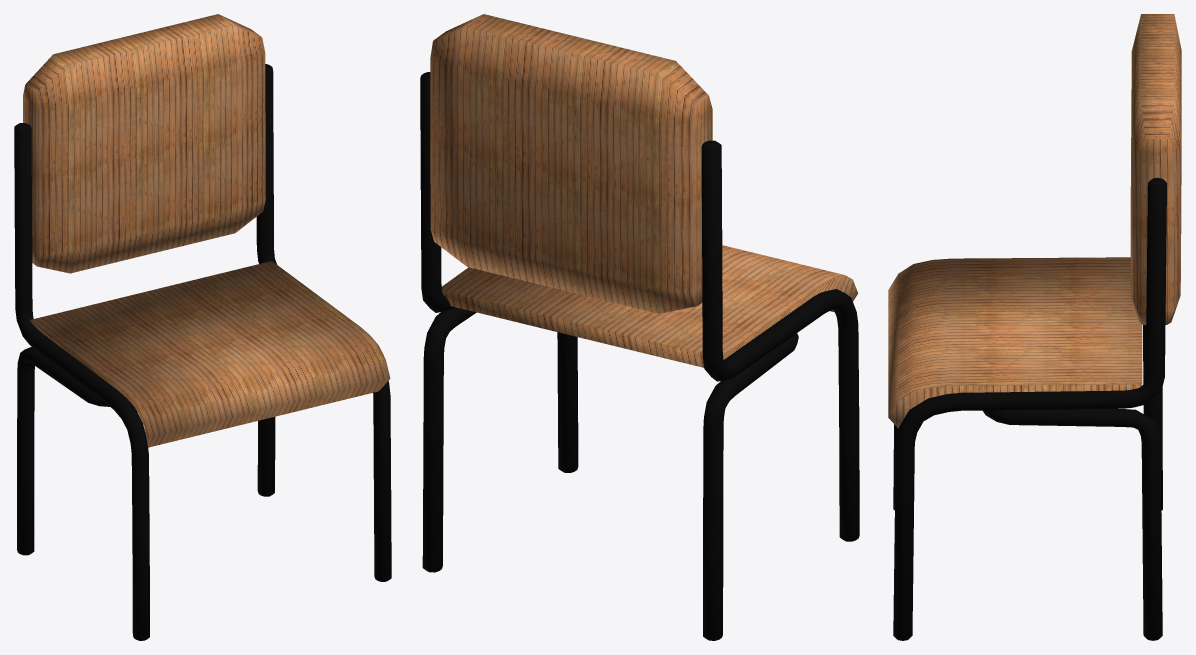
File: chair_2.obj
The picture shows the model from 3 angles, left to right: view 1: azimuth 30°, elevation 25°; view 2: azimuth 150°, elevation 25°; view 3: azimuth 270°, elevation 25°; orthographic projection. The views are drawn at different scales.
Parts seen in each view (by area): view 1: chair_2; view 2: chair_2; view 3: chair_2.
Boxes of the visible parts, x1,y1,x2,y2 form: chair_2: [14, 14, 391, 640]; chair_2: [420, 14, 859, 640]; chair_2: [888, 14, 1181, 640].
Bounding box in the file's own units: 1.01 × 1.81 × 0.9299.
